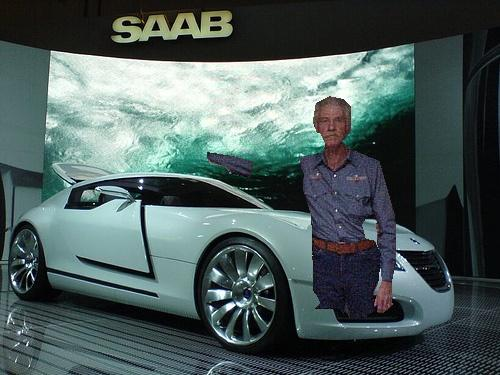tampered: (208, 97, 396, 318)
